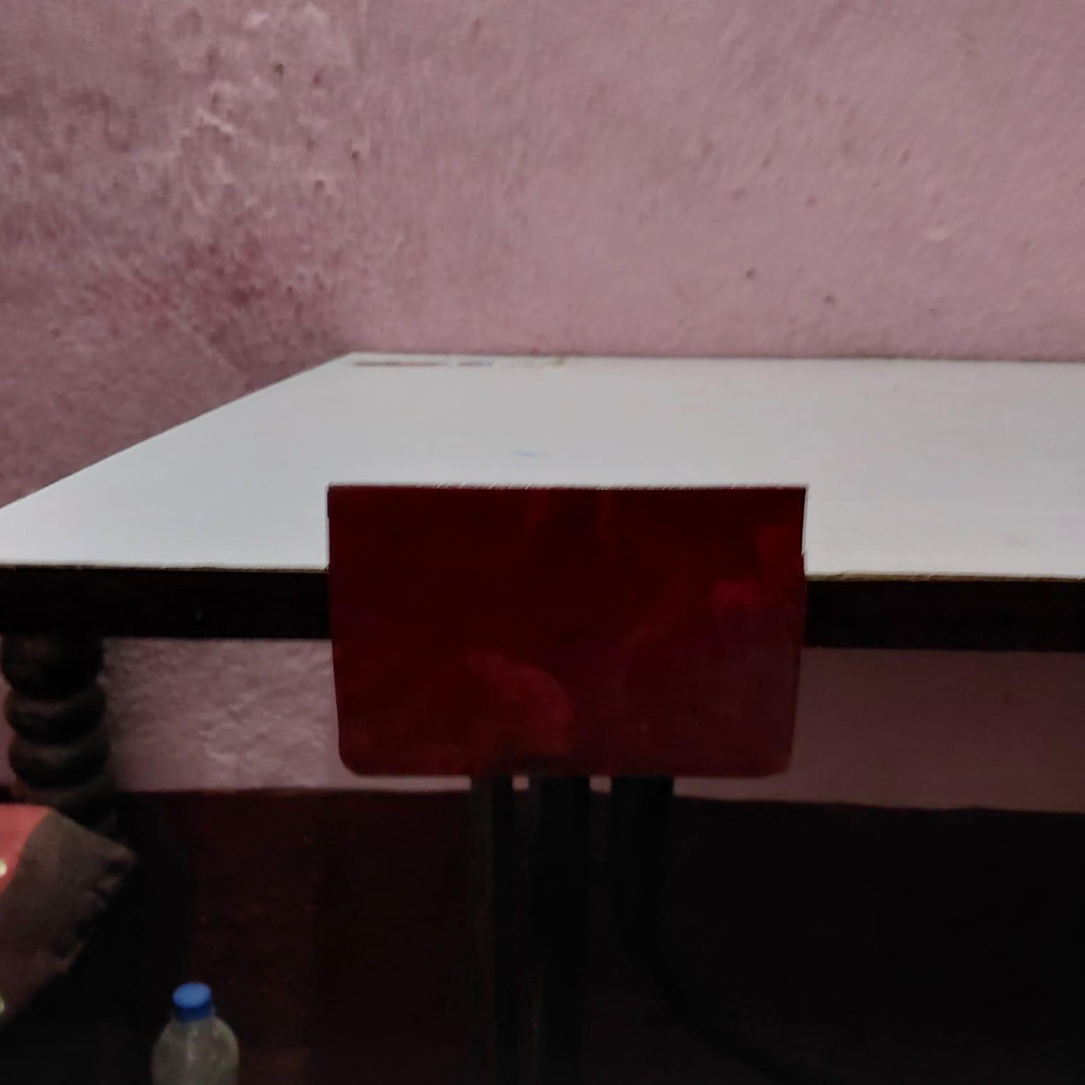wallet: (328, 476, 814, 786)
